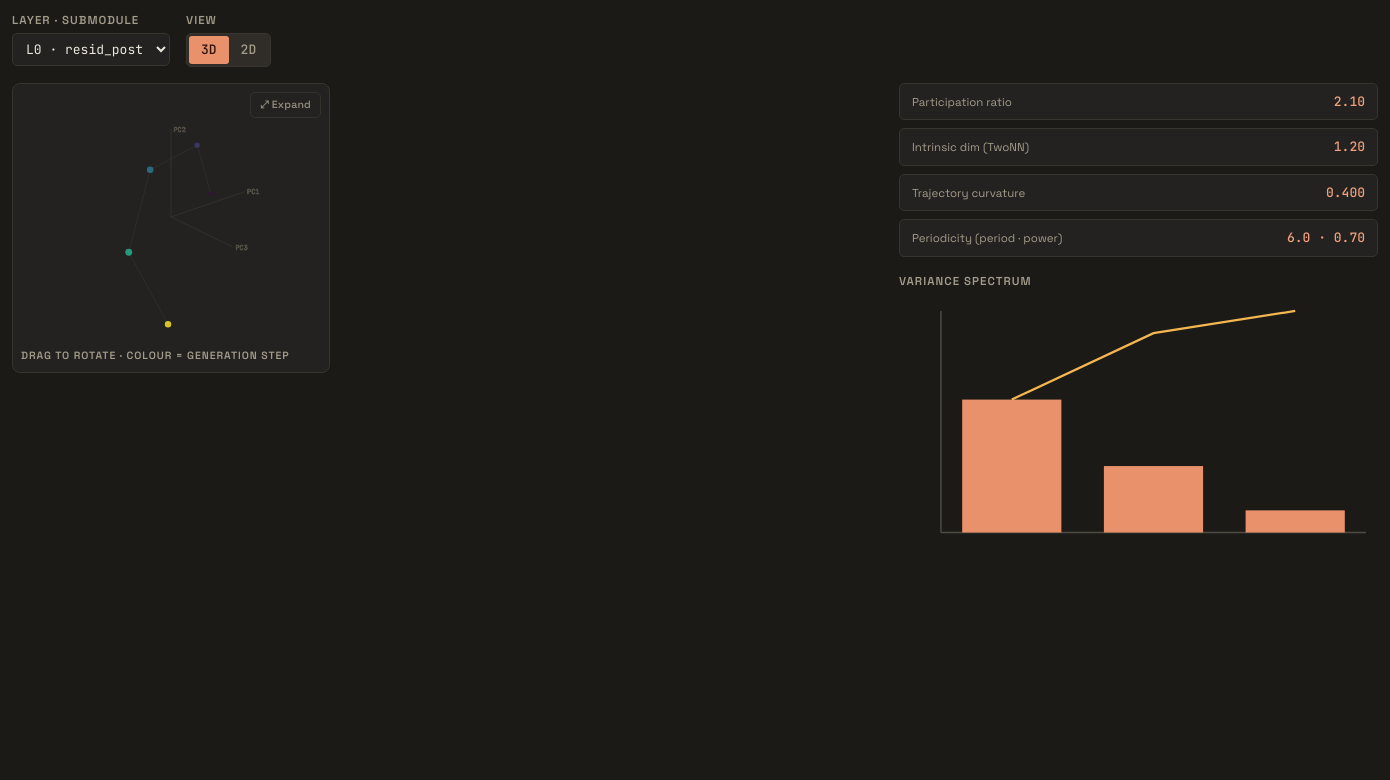
Test case: ManifoldTab › toggles between the 3-D and 2-D projection
Expected: the picture with test id "manifold-scatter-3d" is shown, [21, 92, 321, 342]
Step 1. Click the button with test id "manifold-view-2d" → coordinates (248, 50), box [229, 36, 268, 64]
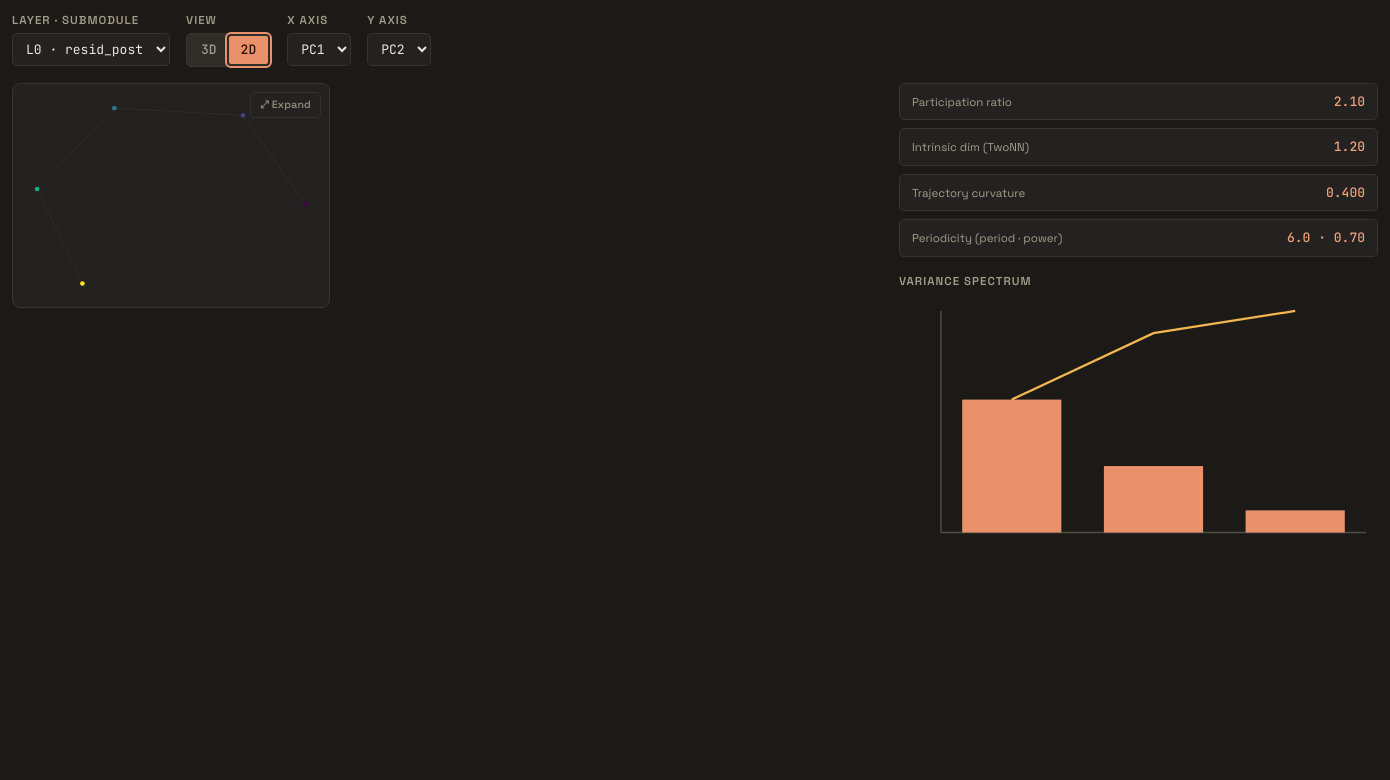
Expected: the picture with test id "manifold-scatter" is shown, [21, 92, 321, 300]
Expected: the picture with test id "manifold-scatter-3d" is gone
Expected: the dropdown with test id "manifold-x-select" is shown, [287, 33, 351, 66]
